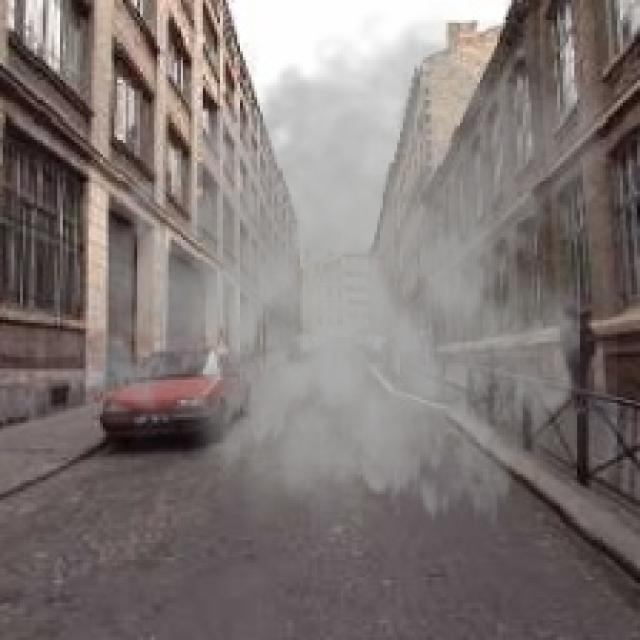Smoke: (88, 0, 618, 563)
